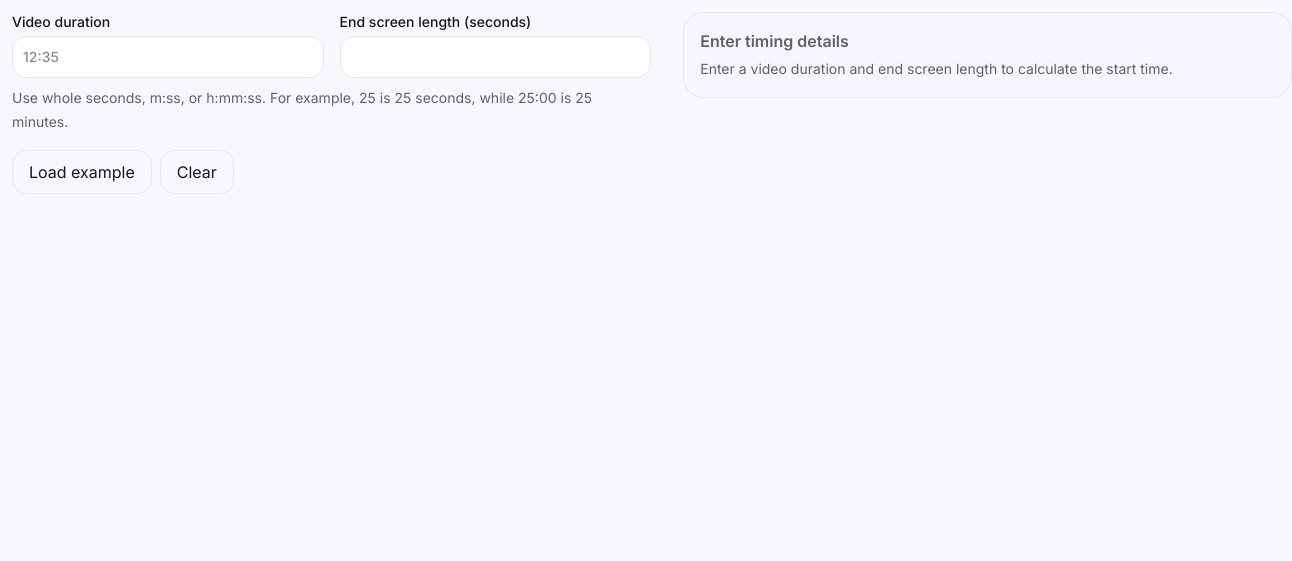
YoutubeEndScreenTimingPlanner › loads an illustrative example and clears back to neutral
The image size is (1292, 561).
What coordinates should you click on to do the following:
click the button "Load example"
I would click on:
 (82, 172)
Its box is [12,150,152,194].
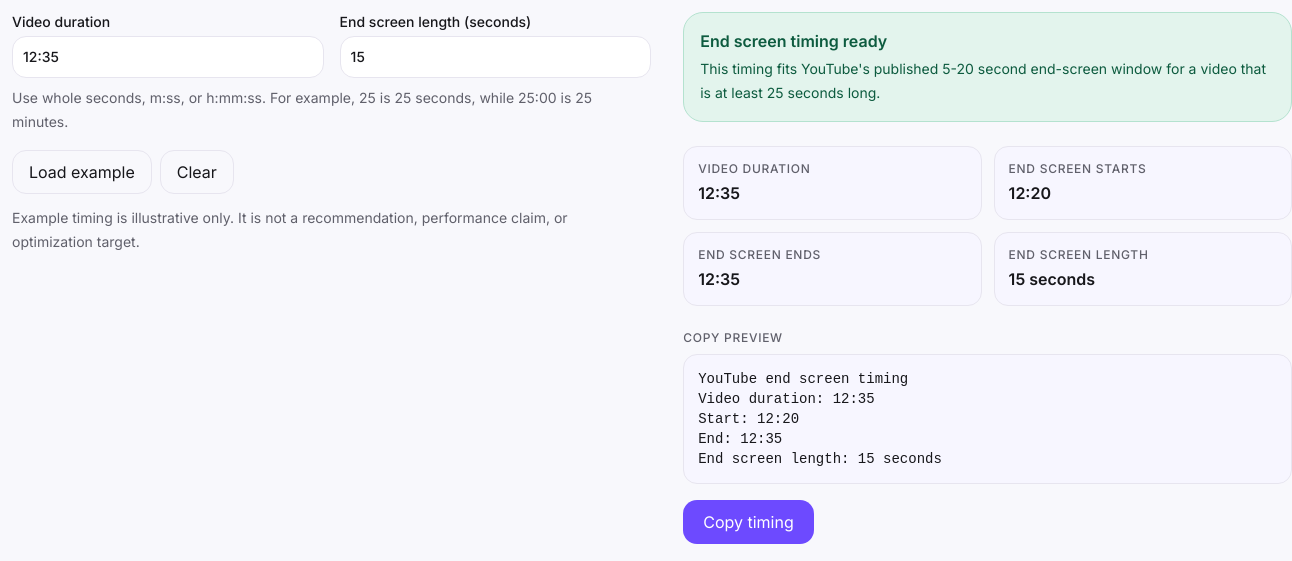
Expected: the number field showing "15" is shown, [340,36,651,78]
Expected: the text "12:20" is shown, [1009,183,1051,203]
Expected: the text "not a recommendation, performance claim, or optimization target" is shown, [12,209,568,250]
What coordinates should you click on to do the following:
click the button "Clear"
I would click on:
 (197, 172)
Its box is [160,150,234,194].
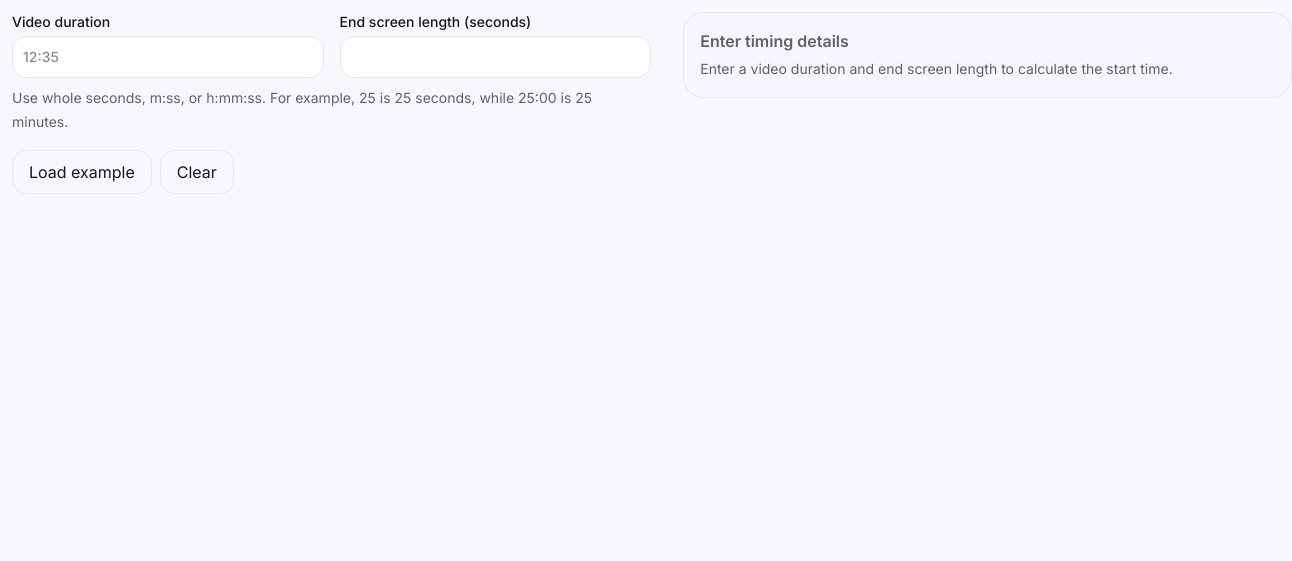
Expected: the field labelled "Video duration" is empty, [12,36,324,78]
Expected: the number field labelled "End screen length (seconds)" is not empty, [340,36,651,78]
Expected: the text "Enter a video duration and end screen length" is shown, [700,60,1173,77]
